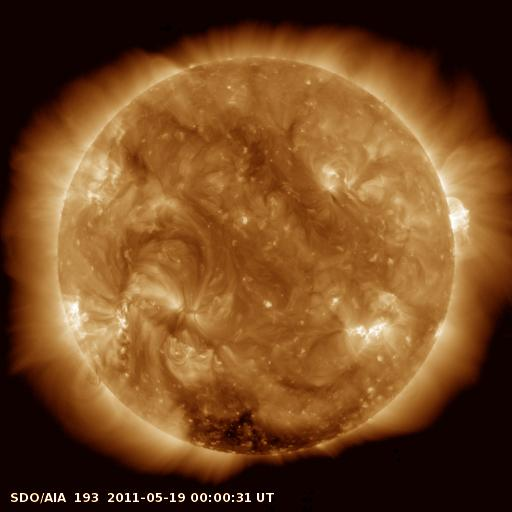coronal_hole: (177, 393, 362, 460)
